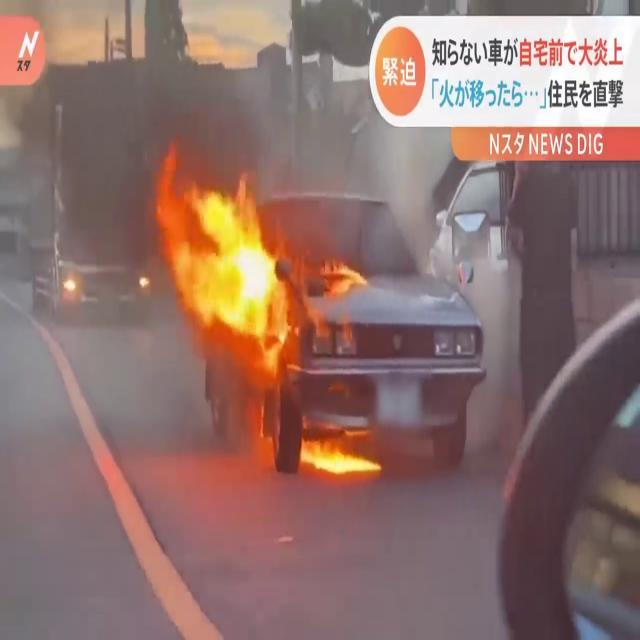Fire: (144, 147, 302, 368), (297, 423, 381, 481), (303, 246, 368, 298)
